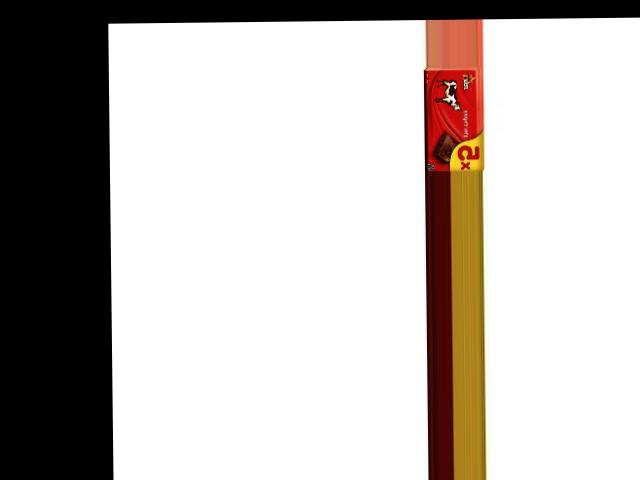chocolate: (424, 66, 486, 171)
